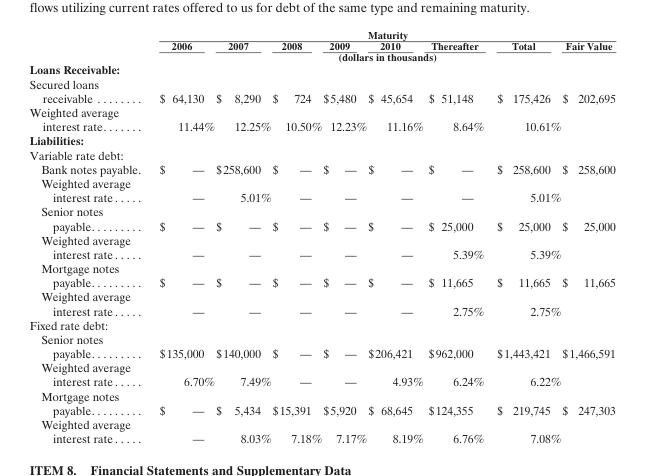table: (28, 28, 614, 445)
table column: (28, 28, 149, 445), (489, 28, 561, 445), (149, 28, 214, 445), (425, 28, 489, 445), (366, 28, 425, 445), (214, 28, 271, 445), (561, 28, 614, 445), (271, 28, 322, 445), (322, 28, 366, 445)
table column header: (28, 28, 614, 62)
table projected row header: (28, 62, 614, 76), (28, 133, 614, 147), (28, 147, 614, 161), (28, 317, 614, 331)
table row: (28, 104, 614, 133), (28, 175, 614, 204), (28, 260, 614, 289), (28, 331, 614, 360), (28, 416, 614, 445), (28, 76, 614, 104), (28, 204, 614, 232), (28, 232, 614, 260), (28, 289, 614, 317), (28, 360, 614, 388), (28, 388, 614, 416), (28, 62, 614, 76), (28, 133, 614, 147), (28, 147, 614, 161), (28, 161, 614, 175), (28, 317, 614, 331), (28, 28, 614, 40), (28, 40, 614, 51), (28, 51, 614, 62)
table spanning cell: (149, 28, 614, 40), (149, 51, 614, 62)
